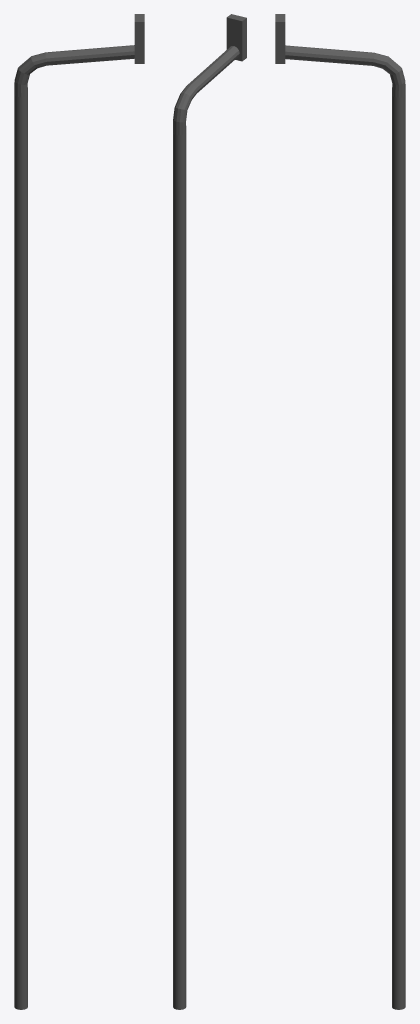
Rendered from SM_drain_pipe_exterior.fbx.
3 renders of one model, left to right at view 1: azimuth 90°, elevation 25°; view 2: azimuth 150°, elevation 25°; view 3: azimuth 270°, elevation 25°, orthographic. The views are drawn at different scales.
Parts seen in each view (by area): view 1: drain_pipe_exterior; view 2: drain_pipe_exterior; view 3: drain_pipe_exterior.
Part boxes in pixels (box(x1,y1,x2,y2)): drain_pipe_exterior: box(14, 14, 144, 1009); drain_pipe_exterior: box(173, 14, 246, 1009); drain_pipe_exterior: box(275, 14, 405, 1009).
Bounding box in the file's own units: 20.05 × 1165 × 139.
